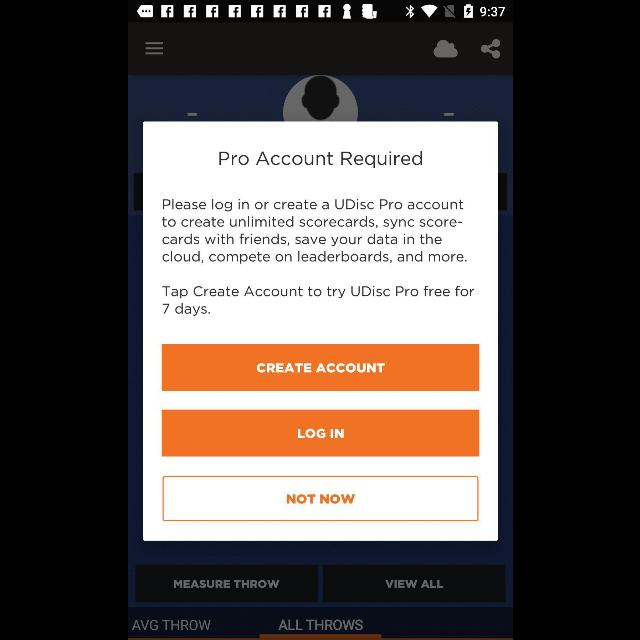icon: (433, 40, 457, 58), (480, 40, 500, 59), (145, 42, 163, 56)
panel: (143, 122, 497, 540)
text: (162, 199, 466, 263), (162, 286, 474, 316), (218, 152, 422, 168), (278, 620, 362, 630), (132, 620, 210, 630)
textbutton: (161, 409, 479, 456), (162, 476, 478, 522), (162, 345, 478, 391), (134, 564, 318, 602), (322, 565, 506, 603)
uppertaskbar: (128, 1, 512, 23)
